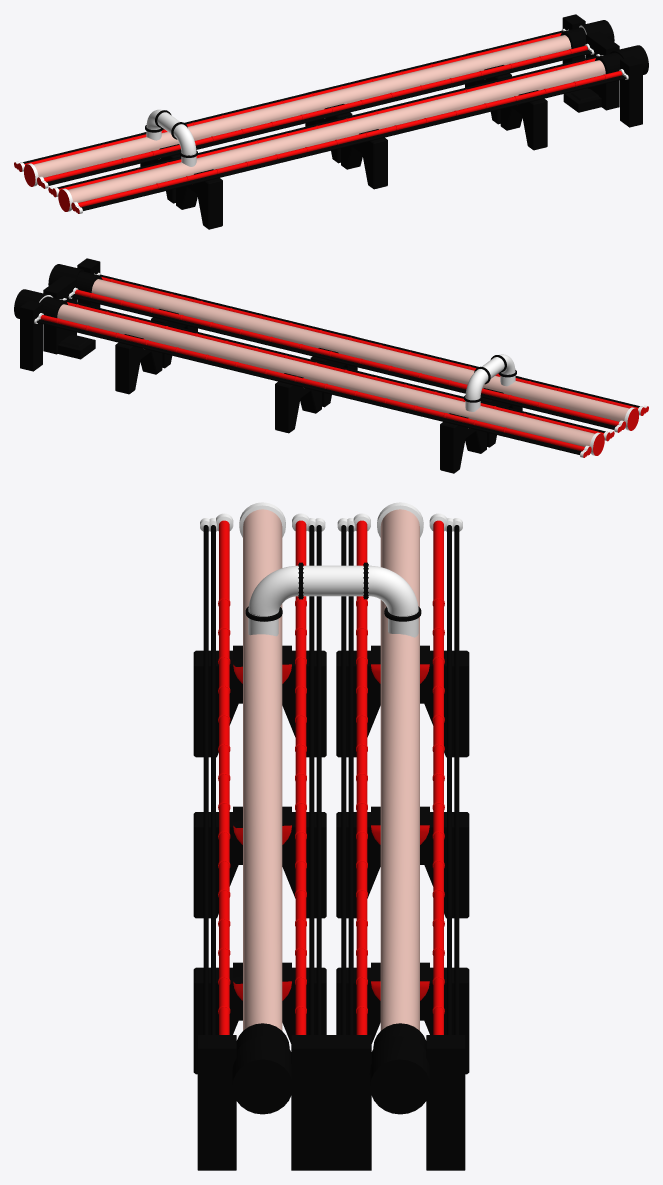
3 renders of one model, top to bottom at view 1: azimuth 30°, elevation 25°; view 2: azimuth 150°, elevation 25°; view 3: azimuth 270°, elevation 25°, orthographic. The views are drawn at different scales.
Visible parts, largest first — view 1: f_unit_31; view 2: f_unit_31; view 3: f_unit_31.
Boxes of the visible parts, <box> form: f_unit_31: <box>14,14,648,229</box>; f_unit_31: <box>14,258,648,473</box>; f_unit_31: <box>193,502,469,1170</box>.
Size of the model in its own units: 510 by 75.75 by 105.
